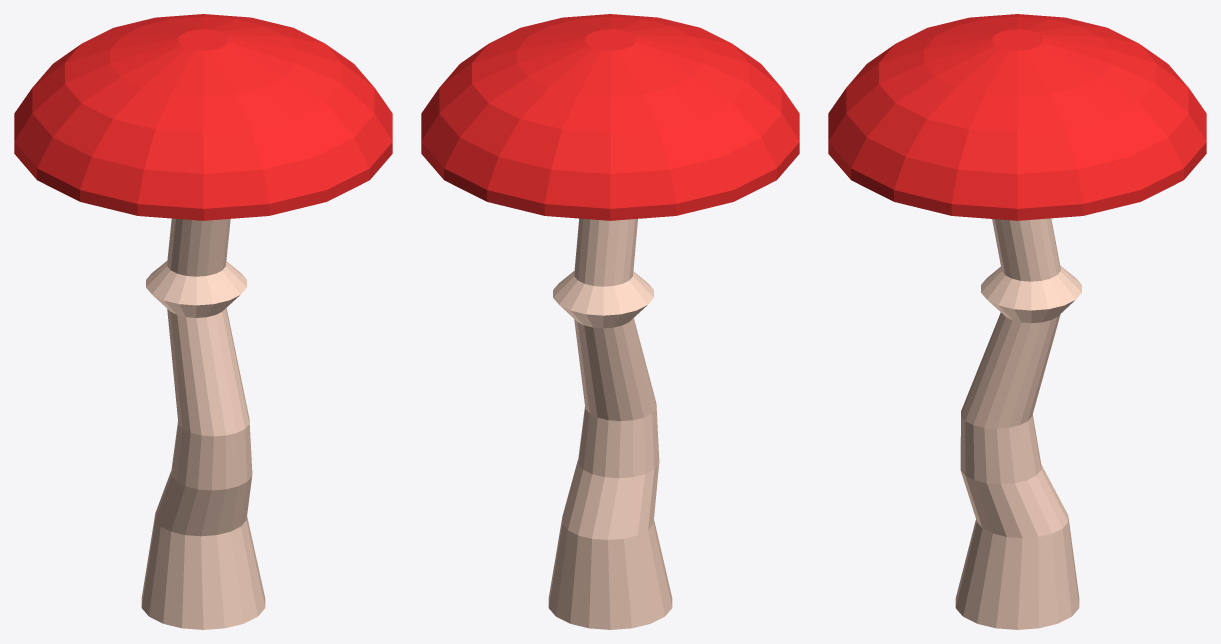
File: mushroom_02.fbx
The picture shows the model from 3 angles, left to right: view 1: azimuth 30°, elevation 25°; view 2: azimuth 150°, elevation 25°; view 3: azimuth 270°, elevation 25°; orthographic projection.
Parts seen in each view (by area): view 1: Cylinder001; view 2: Cylinder001; view 3: Cylinder001.
Boxes of the visible parts, left/top/right/bottom form: Cylinder001: left=14, top=14, right=392, bottom=629; Cylinder001: left=421, top=14, right=799, bottom=629; Cylinder001: left=828, top=14, right=1206, bottom=629.
Bounding box in the file's own units: 76.64 × 124 × 75.47.
